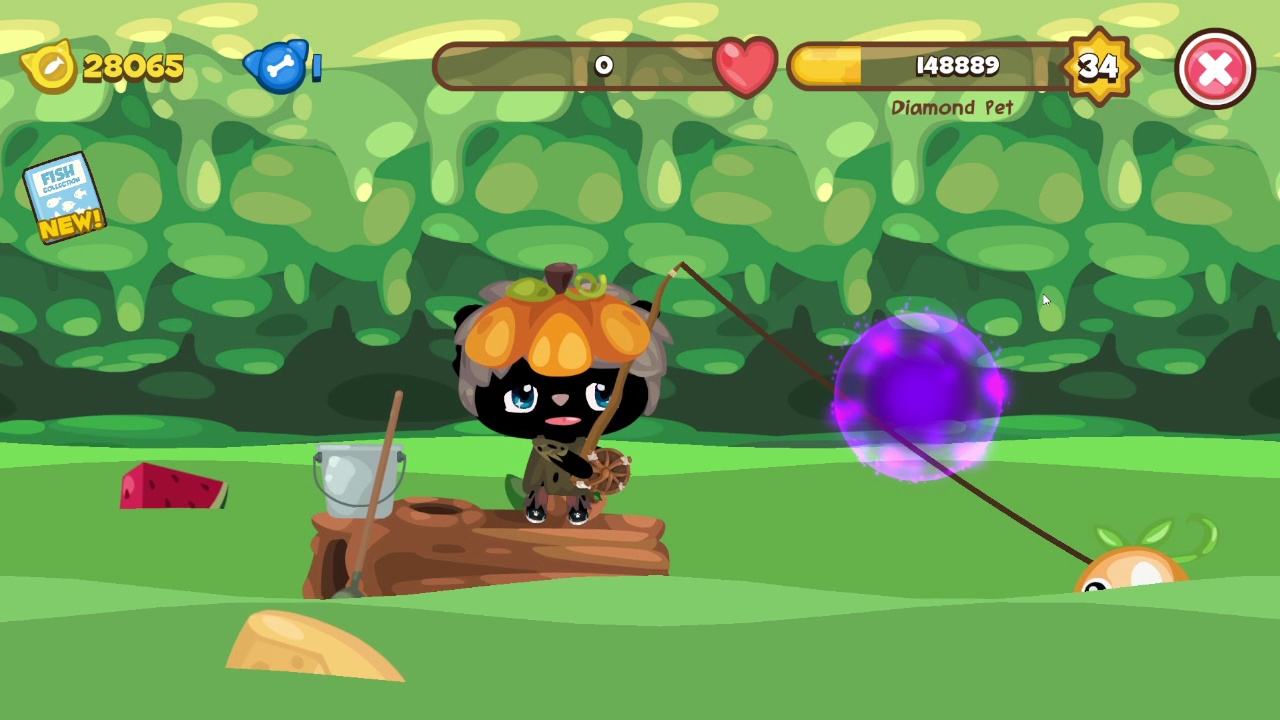point: (831, 312, 1006, 480)
